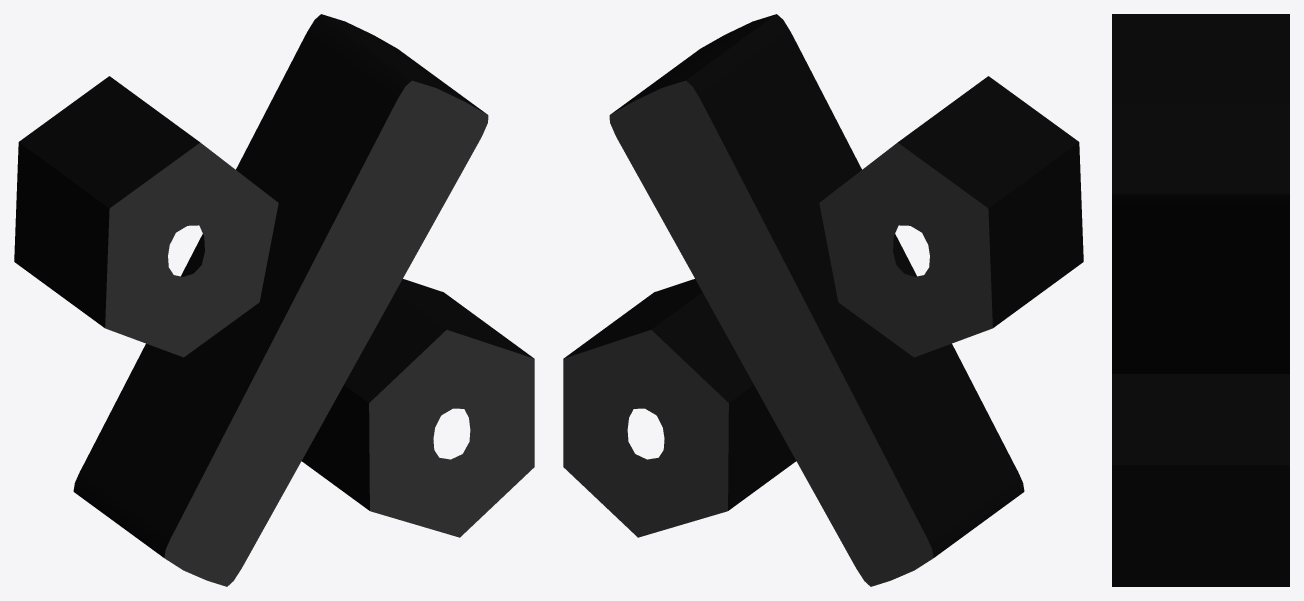
File: e1579025-eb26-4fed-9030-a03788572f70.glb
3 renders of one model, left to right at view 1: azimuth 30°, elevation 25°; view 2: azimuth 150°, elevation 25°; view 3: azimuth 270°, elevation 25°, orthographic. The views are drawn at different scales.
Parts seen in each view (by area): view 1: %_Zyzol_Black; view 2: %_Zyzol_Black; view 3: %_Zyzol_Black.
Boxes of the visible parts, left/top/right/bottom form: %_Zyzol_Black: left=14, top=14, right=534, bottom=586; %_Zyzol_Black: left=563, top=14, right=1083, bottom=586; %_Zyzol_Black: left=1112, top=14, right=1289, bottom=586.
Size of what is drawn, in the model's own units: 0.1228 by 0.1281 by 0.045.
Materials: 2 (2 with a texture image).
